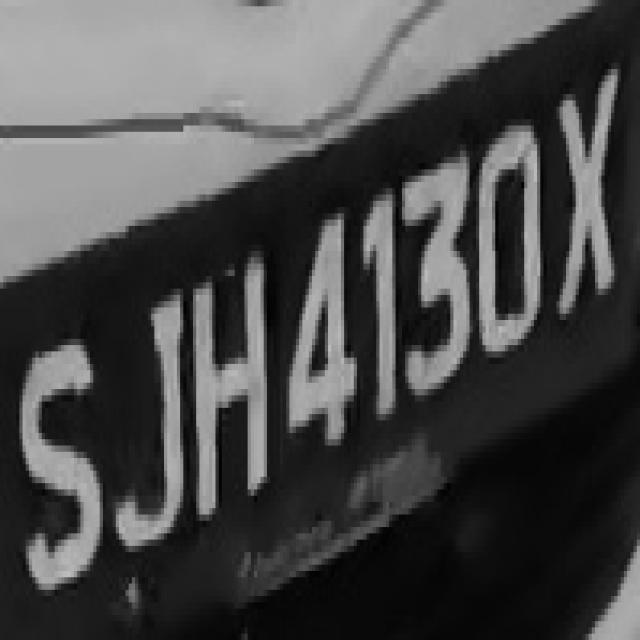0: (469, 113, 546, 364)
1: (357, 163, 402, 433)
3: (402, 151, 482, 414)
4: (280, 188, 360, 464)
H: (190, 238, 280, 540)
J: (106, 257, 196, 584)
S: (13, 314, 96, 621)
X: (550, 50, 624, 339)
